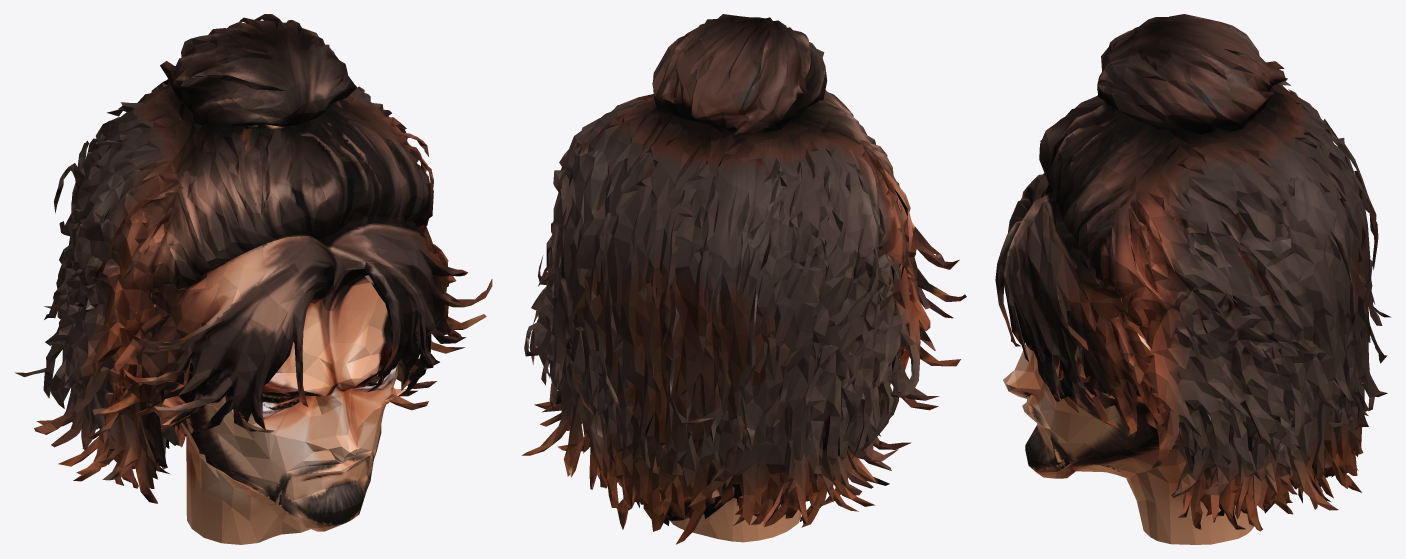
File: side_takanobu_repaired_atlas.glb
3 views of the same model, side by side, from view 1: azimuth 30°, elevation 25°; view 2: azimuth 150°, elevation 25°; view 3: azimuth 270°, elevation 25° (orthographic). The views are drawn at different scales.
Visible parts, largest first — view 1: temp_mesh.ply; view 2: temp_mesh.ply; view 3: temp_mesh.ply.
Boxes of the visible parts, x1,y1,x2,y2 form: temp_mesh.ply: (15,14,492,544); temp_mesh.ply: (522,14,966,544); temp_mesh.ply: (995,14,1391,544).
Size of the model in its own units: 1.65 by 1.98 by 1.45.
Materials: 1 (1 with a texture image).
